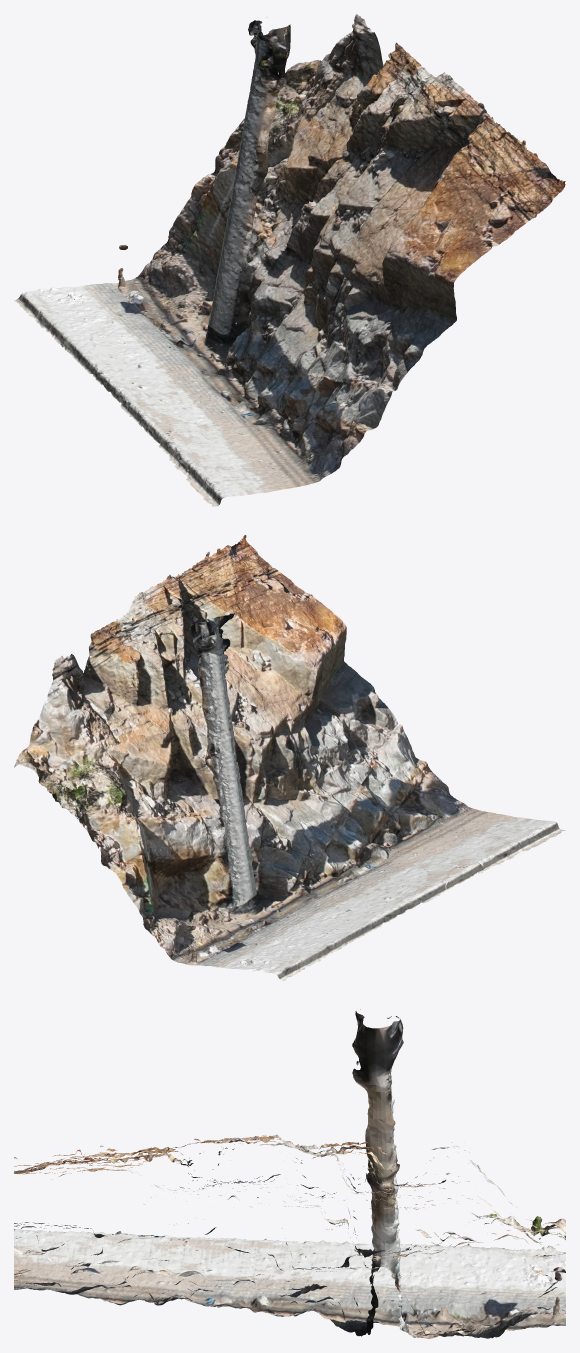
The picture shows the model from 3 angles, top to bottom: view 1: azimuth 30°, elevation 25°; view 2: azimuth 150°, elevation 25°; view 3: azimuth 270°, elevation 25°; orthographic projection. The views are drawn at different scales.
Size of the model in its own units: 6.13 by 5.19 by 7.63.
3 materials, 3 textured.
